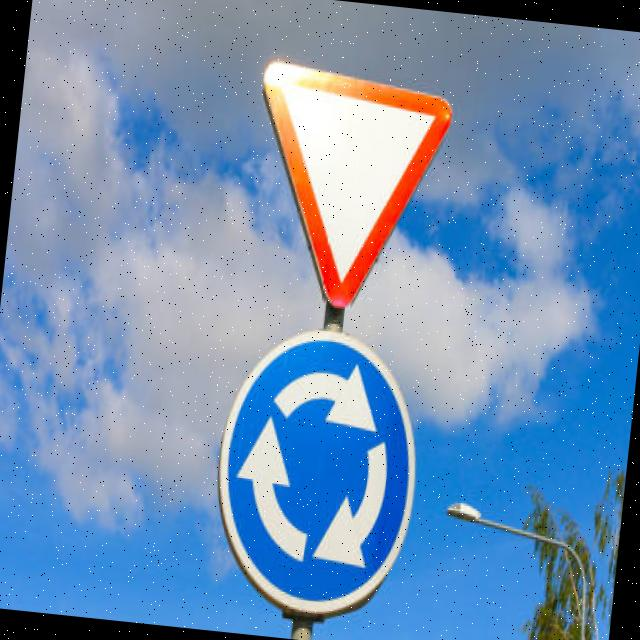round_about: (204, 318, 433, 621)
